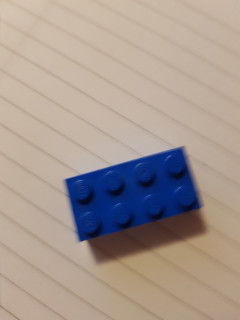2x4 blue: (60, 142, 205, 244)
